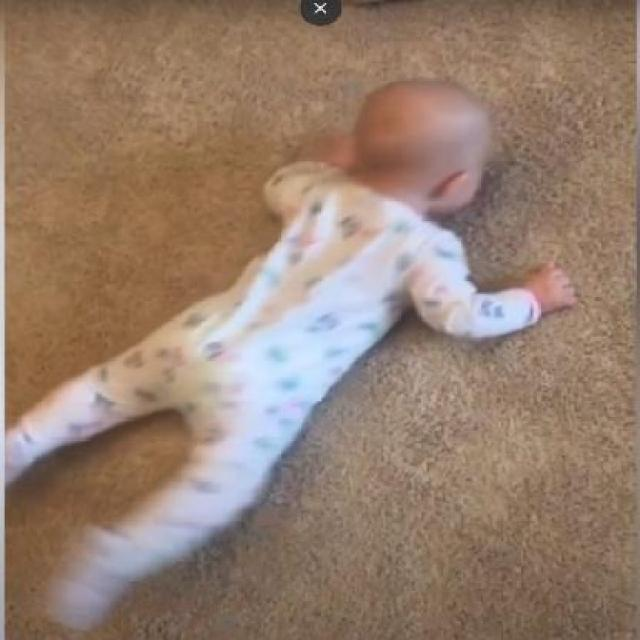child: (8, 76, 574, 602)
